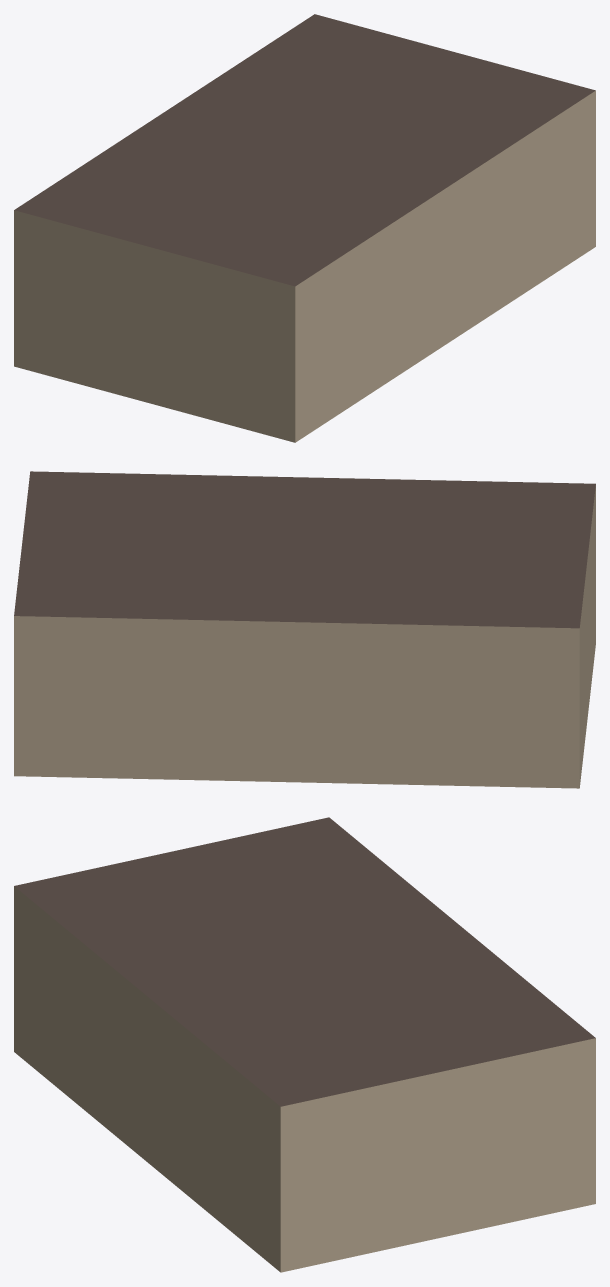
3 views of the same model, one above another, from view 1: azimuth 30°, elevation 25°; view 2: azimuth 150°, elevation 25°; view 3: azimuth 270°, elevation 25° (orthographic). The views are drawn at different scales.
Parts seen in each view (by area): view 1: HP-w282881402; view 2: HP-w282881402; view 3: HP-w282881402.
Boxes of the visible parts, x1=… form: HP-w282881402: x1=14, y1=14, x2=595, y2=442; HP-w282881402: x1=14, y1=471, x2=595, y2=788; HP-w282881402: x1=14, y1=817, x2=595, y2=1272.
Bounding box in the file's own units: 33.68 × 9 × 28.62.
